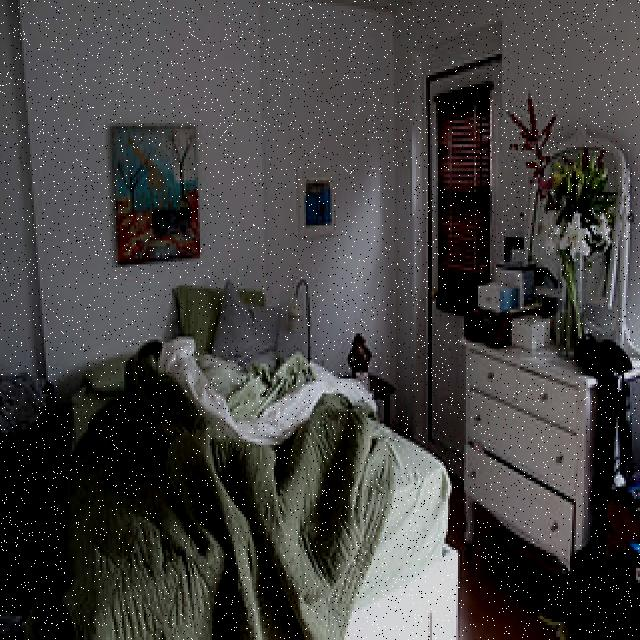bed: (60, 279, 458, 640)
